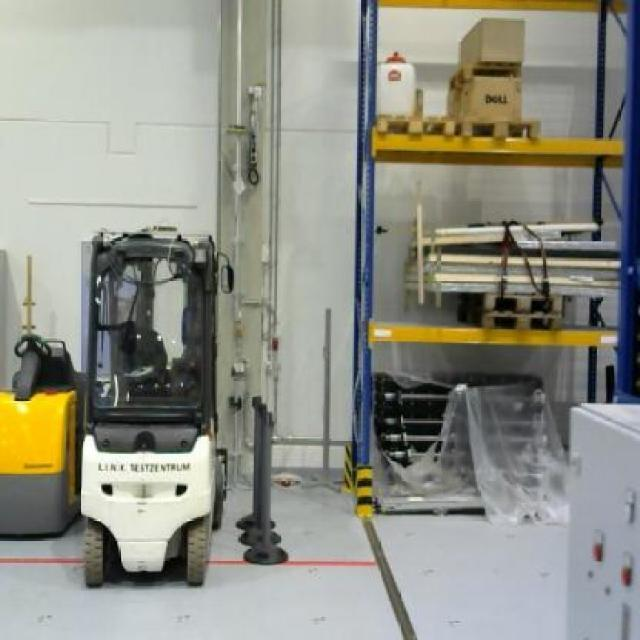box: (458, 15, 526, 70), (446, 74, 522, 120)
